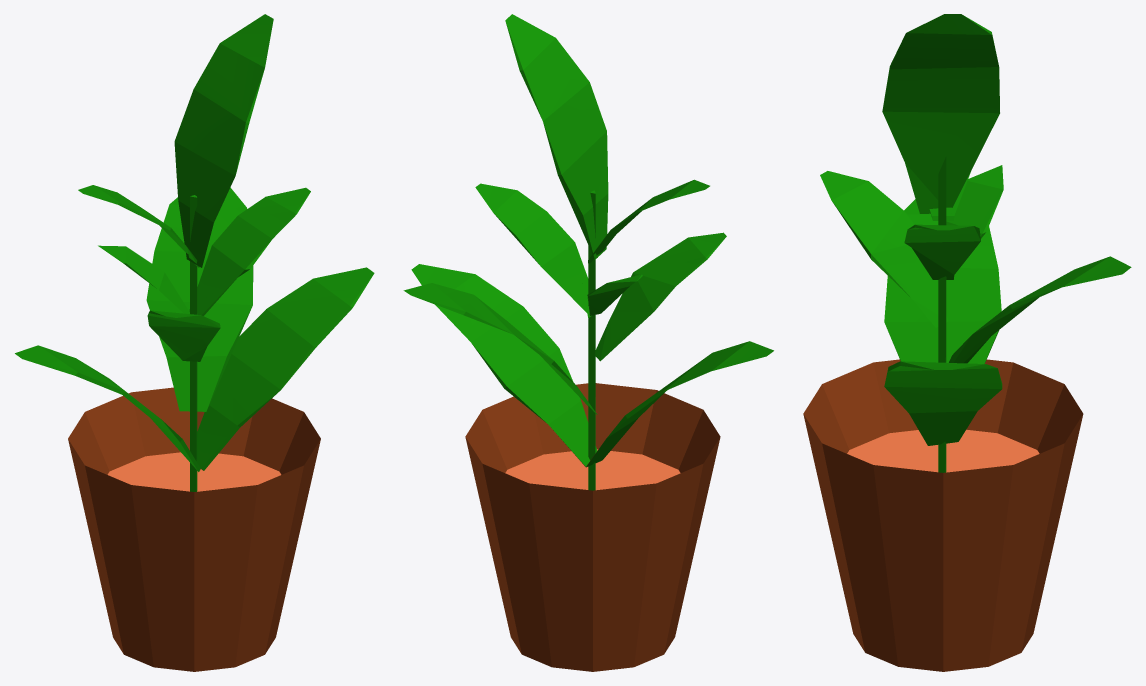
File: Flowerpot2.fbx
3 renders of one model, left to right at view 1: azimuth 30°, elevation 25°; view 2: azimuth 150°, elevation 25°; view 3: azimuth 270°, elevation 25°, orthographic. The views are drawn at different scales.
Parts seen in each view (by area): view 1: Flowerpot; view 2: Flowerpot; view 3: Flowerpot.
Boxes of the visible parts, <box> form: Flowerpot: <box>15,14,374,671</box>; Flowerpot: <box>403,14,773,671</box>; Flowerpot: <box>803,14,1131,671</box>.
Size of the model in its own units: 322 by 522 by 234.
